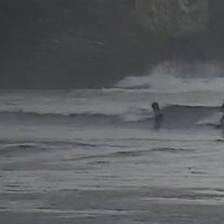surfer: (151, 102, 160, 116), (219, 98, 223, 125), (215, 135, 223, 144)
